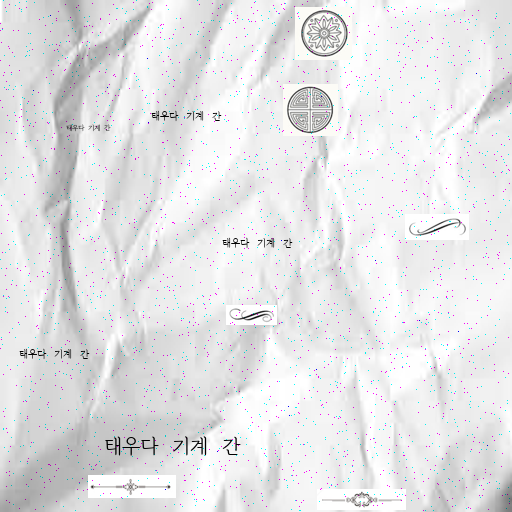text: (104, 436, 244, 456), (19, 349, 89, 359), (151, 111, 221, 121), (222, 238, 292, 248), (66, 124, 115, 131)
